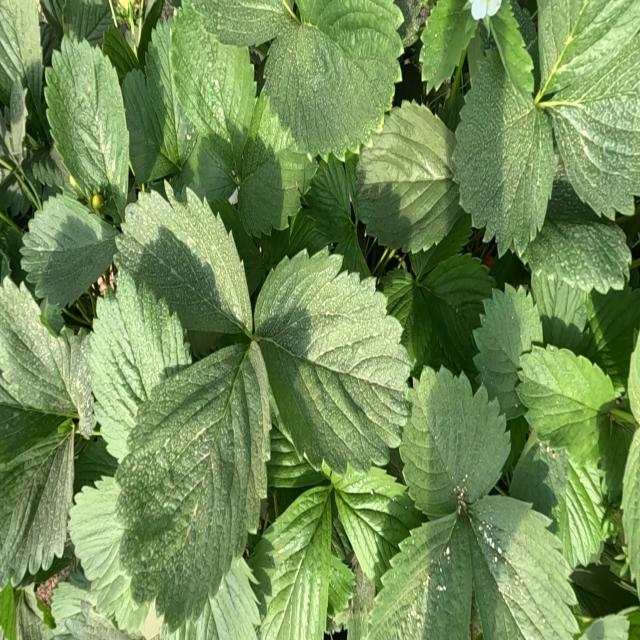Flowers: (468, 1, 502, 19)
Leaves: (116, 339, 270, 625), (256, 249, 410, 473), (454, 34, 555, 252), (265, 1, 403, 157), (540, 0, 639, 215), (89, 271, 190, 460), (119, 193, 250, 334), (172, 0, 256, 200), (401, 366, 509, 517), (465, 496, 578, 637), (355, 102, 459, 251), (45, 40, 128, 209), (369, 509, 474, 639), (0, 403, 73, 586), (69, 477, 154, 633), (511, 439, 605, 567), (518, 345, 615, 463), (238, 89, 315, 236), (262, 483, 333, 638), (335, 467, 422, 587), (21, 195, 116, 304), (0, 280, 74, 414), (221, 205, 331, 295), (420, 253, 493, 377), (160, 555, 261, 639), (473, 285, 541, 402), (147, 21, 196, 179), (526, 221, 630, 292), (380, 267, 443, 374), (587, 286, 640, 390), (122, 70, 169, 183), (621, 334, 640, 597), (420, 0, 476, 88), (185, 1, 289, 47), (306, 154, 355, 244), (1, 2, 43, 104), (267, 426, 324, 488), (531, 277, 587, 339), (65, 332, 95, 435), (0, 81, 27, 162), (63, 0, 112, 44), (103, 25, 139, 84), (51, 583, 92, 634), (27, 148, 69, 190)
Strawberries: (91, 194, 102, 208)
